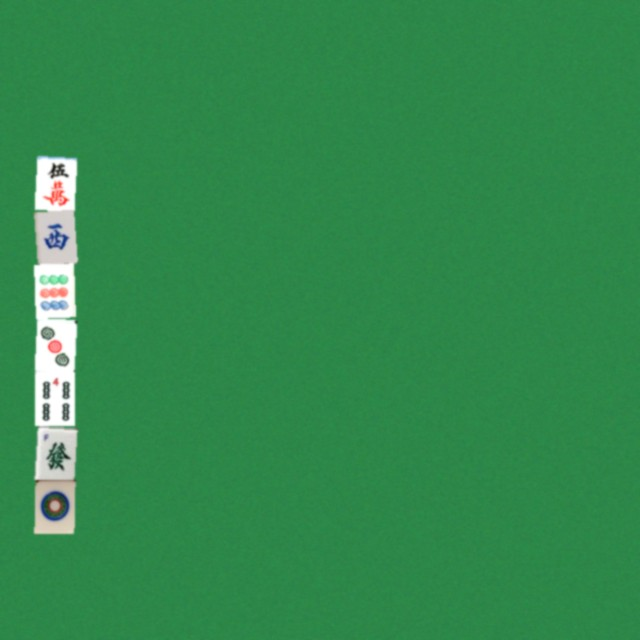tile: (34, 155, 74, 209), (34, 209, 74, 263), (34, 263, 74, 317), (34, 317, 74, 371), (34, 371, 74, 425), (34, 425, 74, 479), (34, 479, 74, 533)
